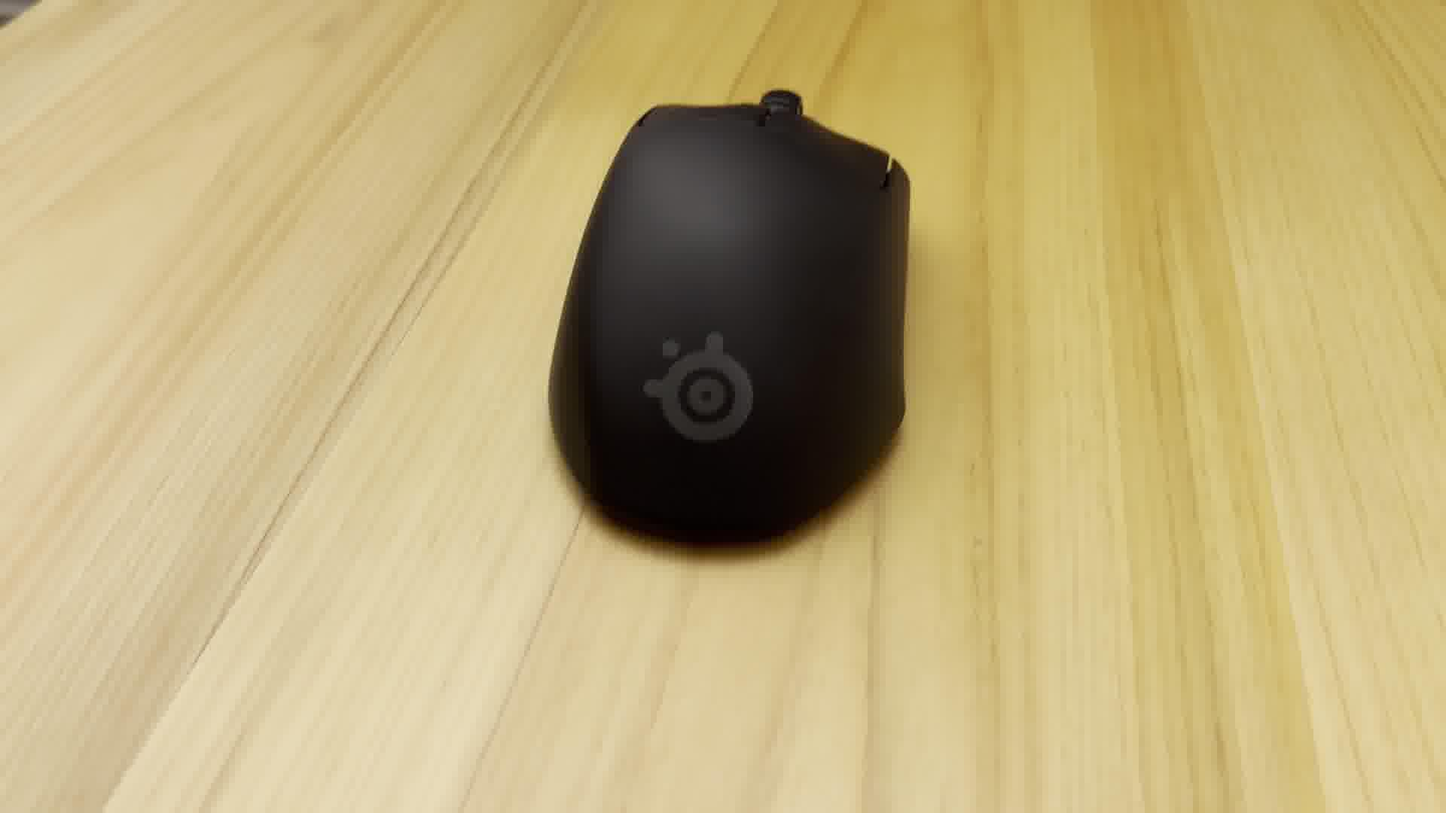steel-series: (537, 75, 924, 571)
